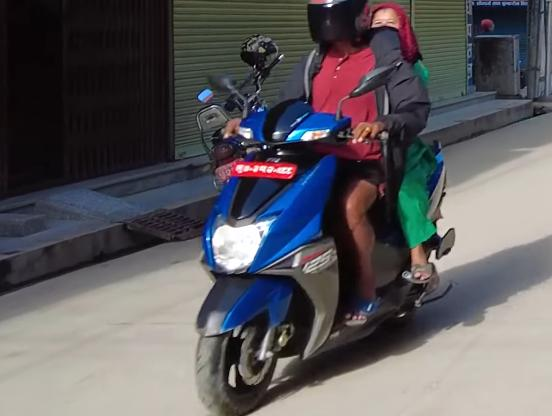scooter: (171, 66, 459, 416)
